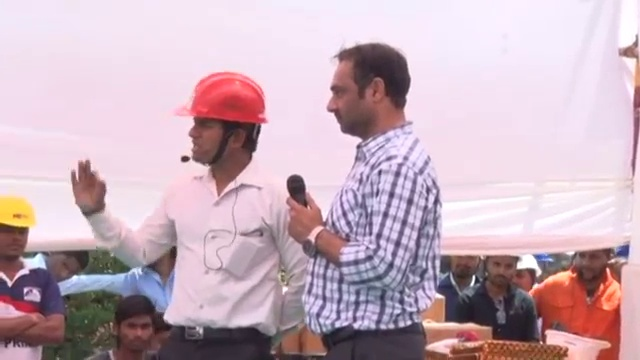helmet: (171, 71, 268, 126), (544, 329, 613, 360), (0, 197, 40, 232), (515, 253, 543, 277)
helmet_off: (325, 42, 413, 143), (107, 299, 160, 360), (40, 247, 90, 290), (574, 242, 613, 283), (484, 253, 521, 293), (447, 253, 480, 282)
helmet_on: (171, 65, 268, 176), (1, 197, 41, 263), (516, 253, 542, 293)
person: (72, 63, 312, 357), (276, 39, 449, 360), (0, 199, 69, 360), (533, 244, 630, 353), (460, 256, 542, 336), (433, 253, 485, 323)
